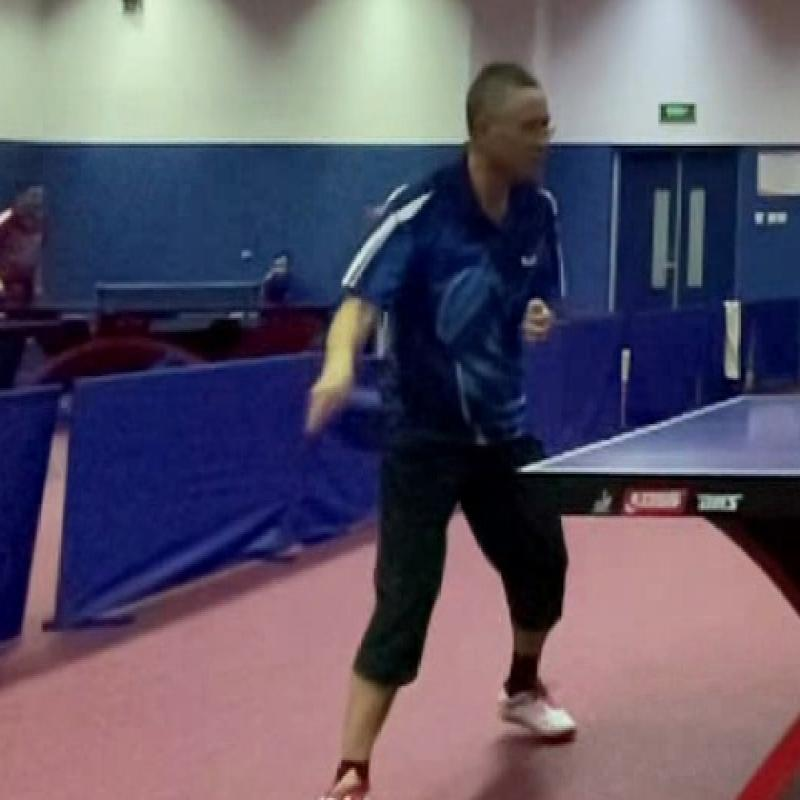bats: (292, 366, 371, 458)
